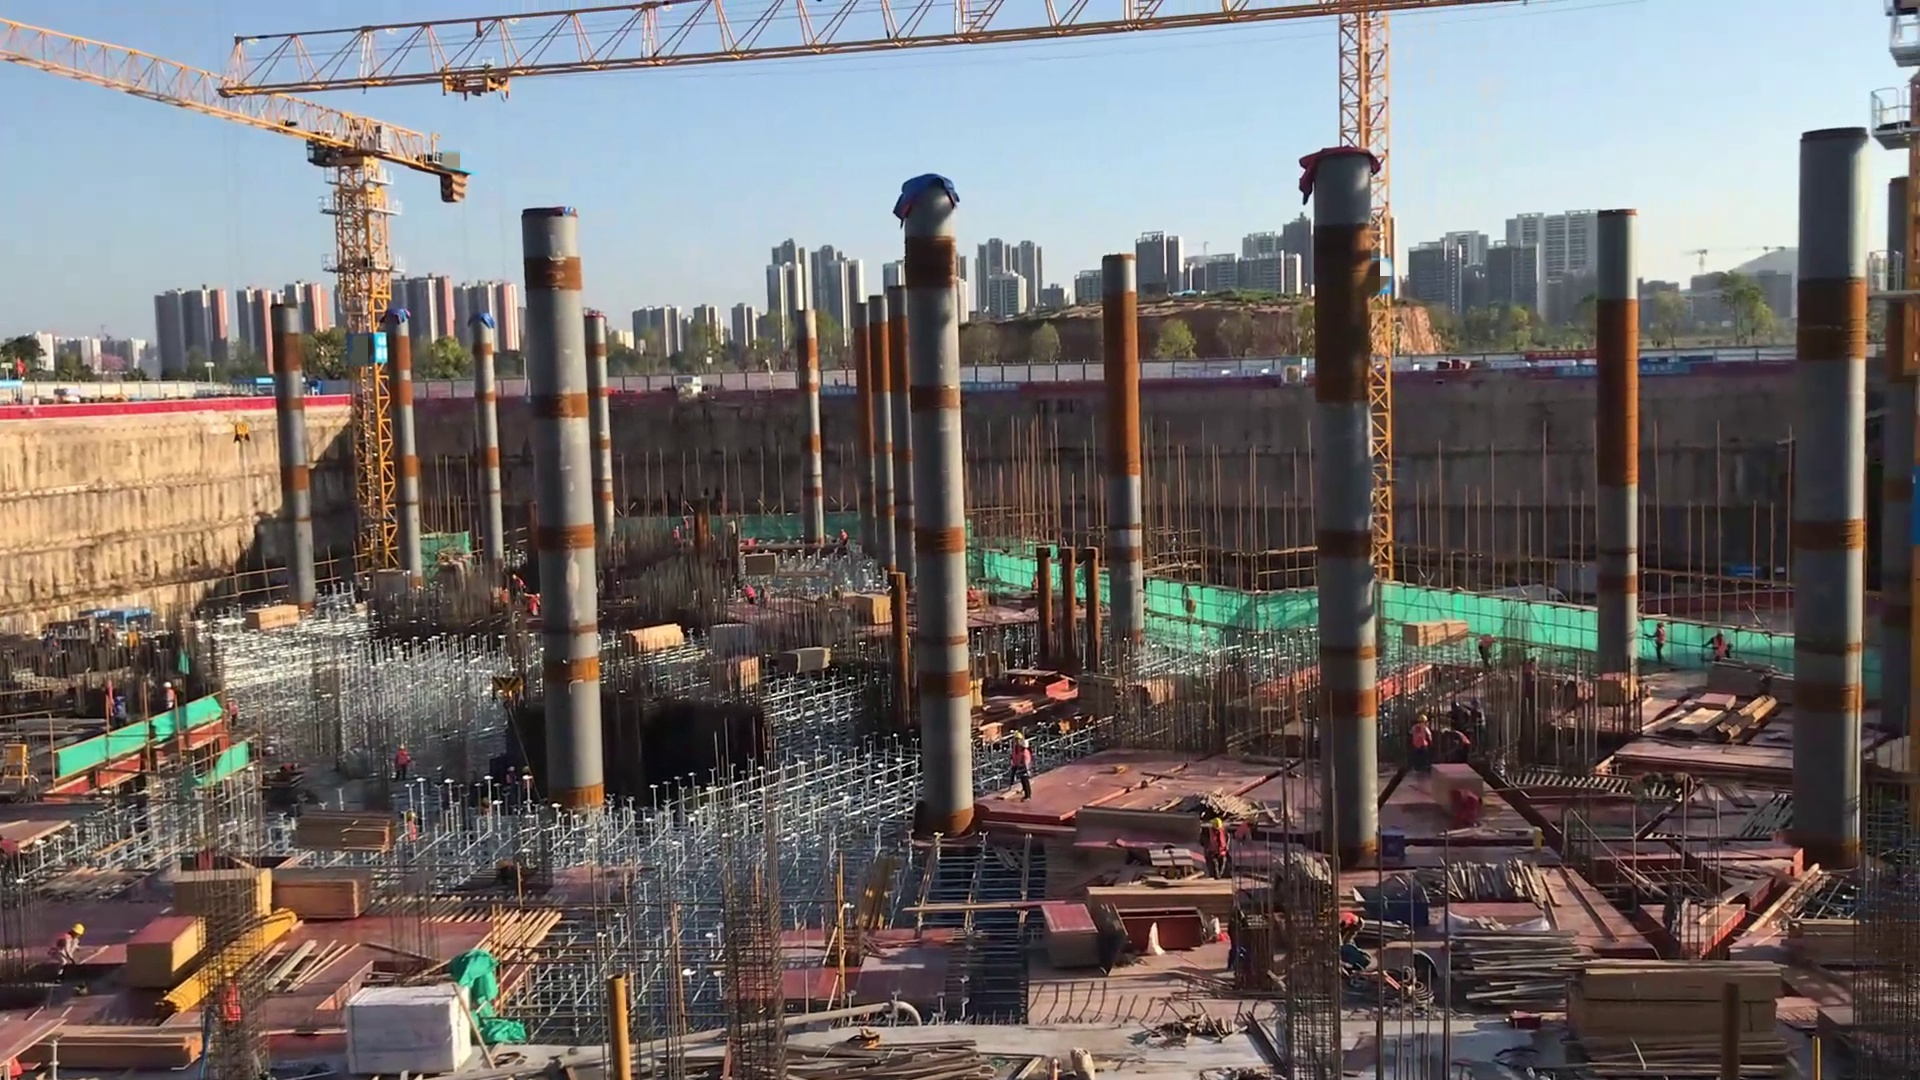helmet: (68, 920, 86, 943), (1416, 711, 1430, 727), (1019, 737, 1033, 752), (1713, 626, 1727, 640), (1209, 818, 1223, 831), (162, 680, 177, 692), (1244, 815, 1258, 826), (1014, 731, 1025, 742), (1479, 792, 1486, 807), (510, 572, 519, 582), (399, 742, 406, 751), (535, 593, 541, 599)
person: (1197, 813, 1234, 883), (47, 918, 90, 972), (1327, 902, 1366, 956), (1408, 712, 1435, 777), (1, 824, 28, 888), (1704, 621, 1738, 669), (1447, 787, 1486, 827), (1017, 734, 1036, 808), (1442, 722, 1470, 769), (1477, 630, 1503, 678), (403, 799, 426, 853), (1232, 812, 1259, 853), (1651, 614, 1669, 674), (157, 677, 181, 720), (1010, 729, 1024, 797), (112, 693, 129, 736), (507, 571, 527, 605), (225, 698, 244, 734), (394, 743, 412, 782), (527, 593, 544, 625), (743, 583, 757, 610), (669, 525, 684, 542), (840, 522, 849, 550)
vest: (46, 930, 77, 962), (1204, 827, 1229, 859), (1410, 723, 1431, 752), (1453, 726, 1471, 751), (1712, 637, 1731, 660), (396, 749, 411, 771), (113, 701, 127, 724)
